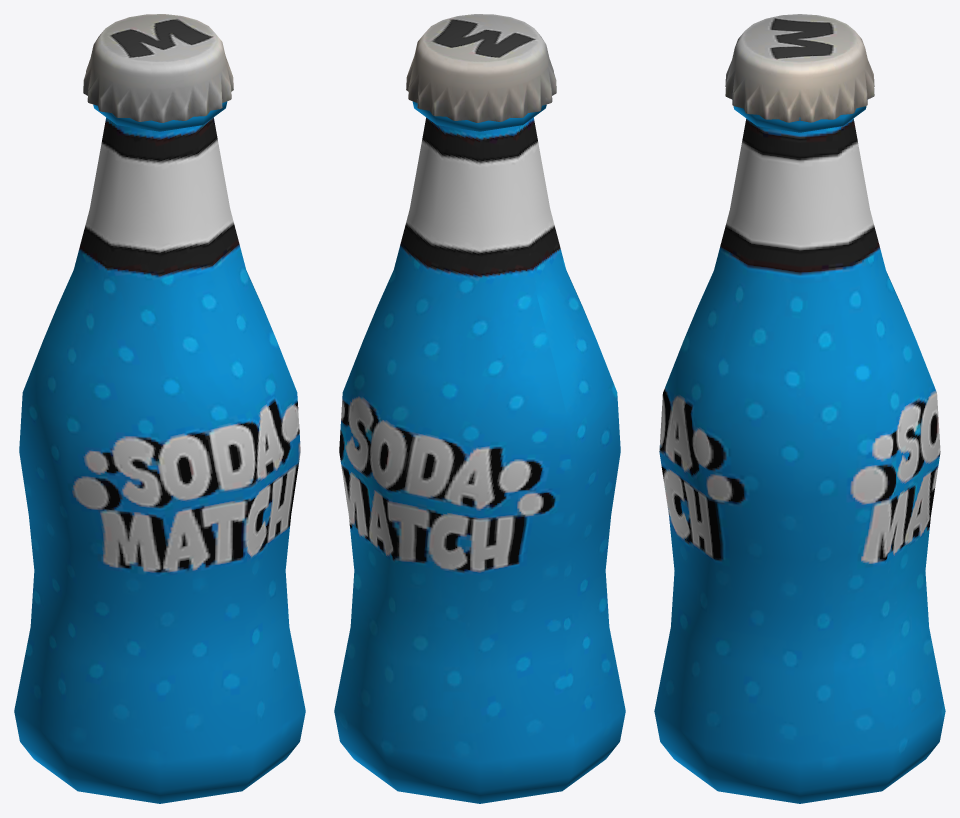
The model's file is 0-soda_blue.fbx.
The picture shows the model from 3 angles, left to right: view 1: azimuth 30°, elevation 25°; view 2: azimuth 150°, elevation 25°; view 3: azimuth 270°, elevation 25°; orthographic projection.
Visible parts, largest first — view 1: 0-soda_blue; view 2: 0-soda_blue; view 3: 0-soda_blue.
Part boxes in pixels (x1=…): 0-soda_blue: x1=14, y1=14, x2=305, y2=803; 0-soda_blue: x1=334, y1=14, x2=625, y2=803; 0-soda_blue: x1=654, y1=14, x2=945, y2=803.
Size of the model in its own units: 33.41 by 92.3 by 33.93.
